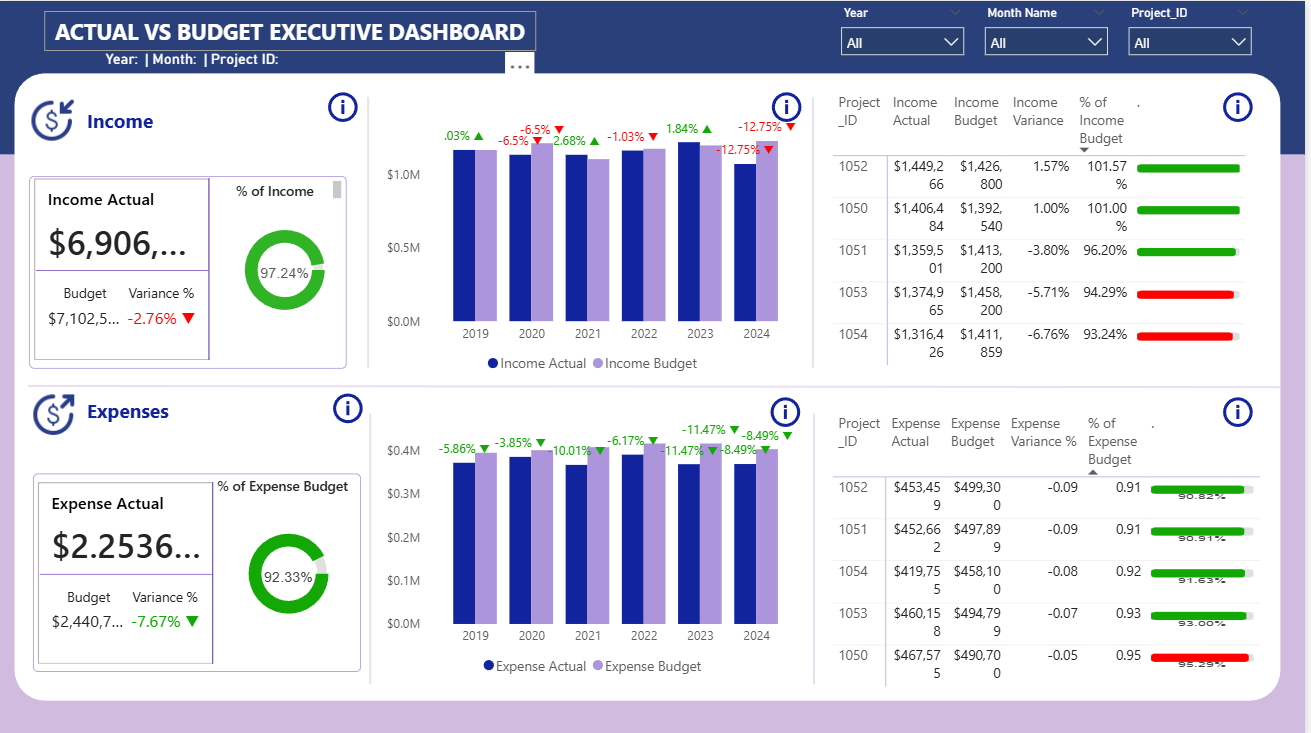

What the dashboard file says about the page in this screenshot:
{"tool":"powerbi","page":{"name":"Page 1","canvas":[1280,720],"ordinal":0},"visuals":[{"type":"slicer","fields":{"Values":["Performance Data.Year"]},"box":[817.1,0,140,62.9],"z":0},{"type":"shape","box":[36,170.6,309.5,187.8],"z":0,"group":"g1"},{"type":"shape","box":[38.8,460.4,320.3,193.2],"z":0,"group":"g2"},{"type":"slicer","fields":{"Values":["Performance Data.Month Name"]},"box":[957.1,0,140,62.9],"z":1000},{"type":"slicer","fields":{"Values":["Performance Data.Project_ID"]},"box":[1097.1,0,140,62.9],"z":2000},{"type":"group","id":"g1","title":"Group 1","box":[35.8,168.7,320.9,189.6],"z":3000},{"type":"cardVisual","fields":{"Data":["Key Measures.Income Actual"]},"box":[35.8,168.7,181,187],"z":4000,"group":"g1"},{"type":"group","id":"g2","title":"Group 1","box":[38.8,458.2,322.4,195.5],"z":4000},{"type":"cardVisual","fields":{"Data":["Key Measures.Expense Actual"]},"box":[38.9,464.4,181,187],"z":4000,"group":"g2"},{"type":"clusteredColumnChart","fields":{"Y":["Key Measures.Income Actual","Key Measures.Income Budget"],"Category":["Performance Data.Year"]},"box":[379.1,98.5,414.9,273.1],"z":5000},{"type":"cardVisual","fields":{"Data":["Key Measures.% of Income Budget"]},"box":[217.1,199,139.2,128.4],"z":5000,"group":"g1"},{"type":"cardVisual","fields":{"Data":["Key Measures.% of Expense Budget"]},"box":[220.1,494.7,139.2,128.4],"z":5000,"group":"g2"},{"type":"clusteredColumnChart","fields":{"Y":["Key Measures.Expense Actual","Key Measures.Expense Budget"],"Category":["Performance Data.Year"]},"box":[379.1,392.5,414.9,274.6],"z":6000},{"type":"pivotTable","fields":{"Rows":["Performance Data.Project_ID"],"Values":["Key Measures.Income Actual","Key Measures.Income Budget","Key Measures.Income Variance %","Key Measures.% of Income Budget","Key Measures.Income Bar Chart"]},"box":[814.9,83.6,435.8,277.6],"z":7000},{"type":"textbox","box":[209,170.6,136.5,31.1],"z":7001,"group":"g1"},{"type":"textbox","box":[205,458.2,155.4,39.2],"z":7001,"group":"g2"},{"type":"pivotTable","fields":{"Rows":["Performance Data.Project_ID"],"Values":["Key Measures.Expense Actual","Key Measures.Expense Budget","Key Measures.Expense Variance %","Key Measures.% of Expense Budget","Key Measures.Expense Bar Chart"]},"box":[814.9,397,435.8,277.6],"z":8000},{"type":"textbox","box":[86.6,98.5,113.4,35.8],"z":9000},{"type":"textbox","box":[86.6,382.1,113.4,38.8],"z":10000},{"type":"image","box":[28.4,73.1,58.2,86.6],"z":11000},{"type":"image","box":[0,374.6,117.9,58.2],"z":12000},{"type":"textbox","box":[49.8,10,479.3,38.4],"z":13000},{"type":"card","fields":{"Values":["Key Measures.Dynamic Header"]},"box":[22.8,42.7,345.6,29.9],"z":14000},{"type":"actionButton","box":[322.4,83.6,38.8,38.8],"z":15000},{"type":"actionButton","box":[326.9,377.6,40.3,38.8],"z":16000},{"type":"actionButton","box":[753.7,382.1,40.3,38.8],"z":17000},{"type":"actionButton","box":[1195.5,382.1,41.8,38.8],"z":18000},{"type":"actionButton","box":[755.2,83.6,40.3,38.8],"z":19000},{"type":"actionButton","box":[1195.5,83.6,41.8,38.8],"z":20000}]}

Visuals, with their boxes in screenshot pixels (x1, y1, x2, y2), scaled from the page's 1280x720 canvas onto the 1311x733 screenshot:
slicer - Performance Data.Year: [x1=837, y1=0, x2=980, y2=64]
shape: [x1=37, y1=174, x2=354, y2=365]
shape: [x1=40, y1=469, x2=368, y2=665]
slicer - Performance Data.Month Name: [x1=980, y1=0, x2=1124, y2=64]
slicer - Performance Data.Project_ID: [x1=1124, y1=0, x2=1267, y2=64]
"Group 1" group: [x1=37, y1=172, x2=365, y2=365]
cardVisual - Key Measures.Income Actual: [x1=37, y1=172, x2=222, y2=362]
"Group 1" group: [x1=40, y1=466, x2=370, y2=666]
cardVisual - Key Measures.Expense Actual: [x1=40, y1=473, x2=225, y2=663]
clusteredColumnChart - Key Measures.Income Actual x Key Measures.Income Budget: [x1=388, y1=100, x2=813, y2=378]
cardVisual - Key Measures.% of Income Budget: [x1=222, y1=203, x2=365, y2=333]
cardVisual - Key Measures.% of Expense Budget: [x1=225, y1=504, x2=368, y2=634]
clusteredColumnChart - Key Measures.Expense Actual x Key Measures.Expense Budget: [x1=388, y1=400, x2=813, y2=679]
pivotTable - Performance Data.Project_ID x Key Measures.Income Actual: [x1=835, y1=85, x2=1281, y2=368]
textbox: [x1=214, y1=174, x2=354, y2=205]
textbox: [x1=210, y1=466, x2=369, y2=506]
pivotTable - Performance Data.Project_ID x Key Measures.Expense Actual: [x1=835, y1=404, x2=1281, y2=687]
textbox: [x1=89, y1=100, x2=205, y2=137]
textbox: [x1=89, y1=389, x2=205, y2=428]
image: [x1=29, y1=74, x2=89, y2=163]
image: [x1=0, y1=381, x2=121, y2=441]
textbox: [x1=51, y1=10, x2=542, y2=49]
card - Key Measures.Dynamic Header: [x1=23, y1=43, x2=377, y2=74]
actionButton: [x1=330, y1=85, x2=370, y2=125]
actionButton: [x1=335, y1=384, x2=376, y2=424]
actionButton: [x1=772, y1=389, x2=813, y2=428]
actionButton: [x1=1224, y1=389, x2=1267, y2=428]
actionButton: [x1=773, y1=85, x2=815, y2=125]
actionButton: [x1=1224, y1=85, x2=1267, y2=125]
